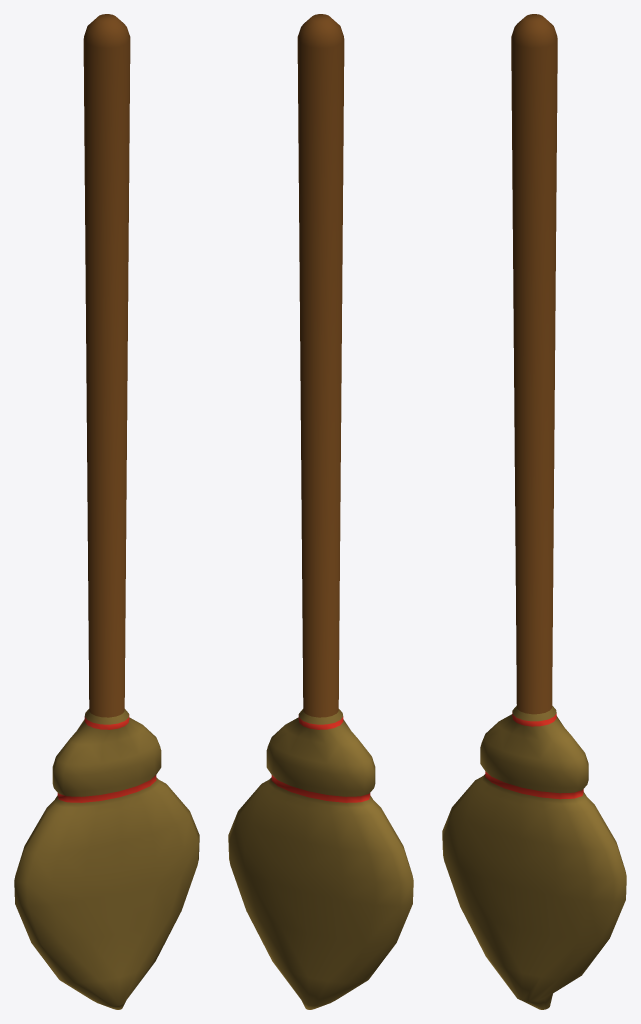
Rendered from Broom.glb.
3 renders of one model, left to right at view 1: azimuth 30°, elevation 25°; view 2: azimuth 150°, elevation 25°; view 3: azimuth 330°, elevation 25°, orthographic.
Parts seen in each view (by area): view 1: Broom; view 2: Broom; view 3: Broom.
Part boxes in pixels (x1=…): Broom: x1=14, y1=14, x2=199, y2=1009; Broom: x1=228, y1=14, x2=413, y2=1009; Broom: x1=442, y1=14, x2=626, y2=1009.
Size of the model in its own units: 0.3296 by 1.68 by 0.0928.
